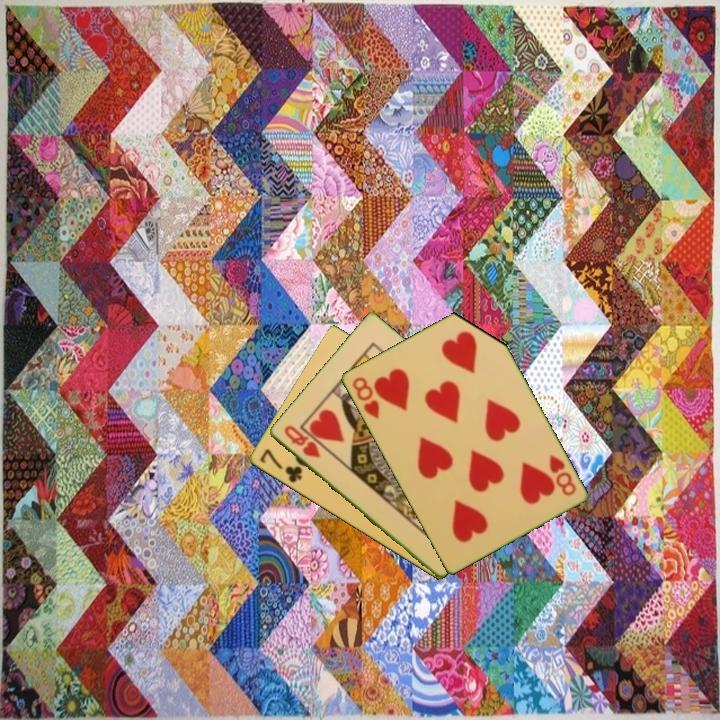7c: (256, 445, 305, 486)
8h: (348, 373, 382, 422), (545, 451, 579, 499)
Qh: (280, 422, 323, 461)
